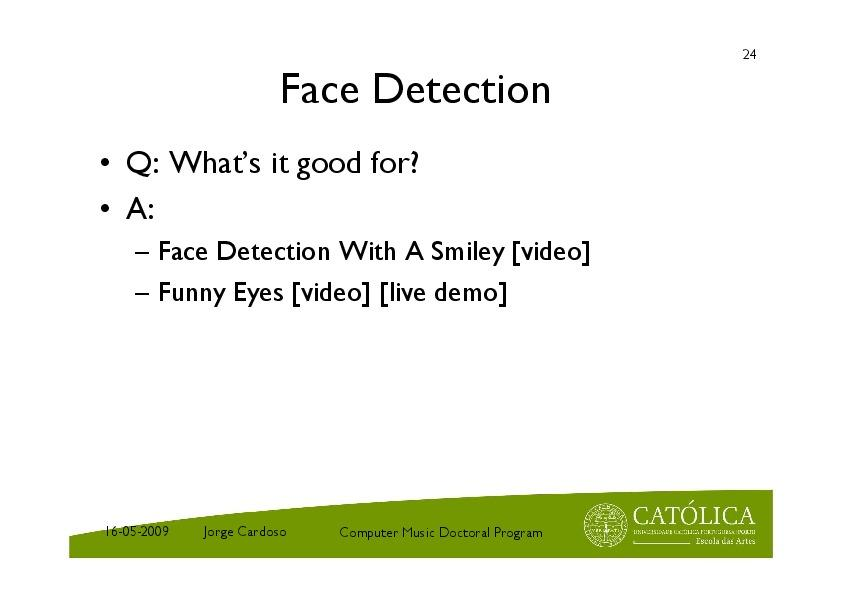paragraph: (83, 134, 626, 332)
subtitle: (96, 504, 558, 552)
title: (275, 64, 564, 119)
